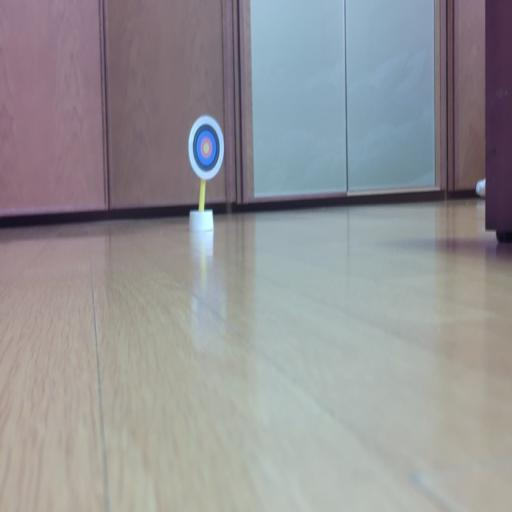target: (188, 116, 224, 180)
